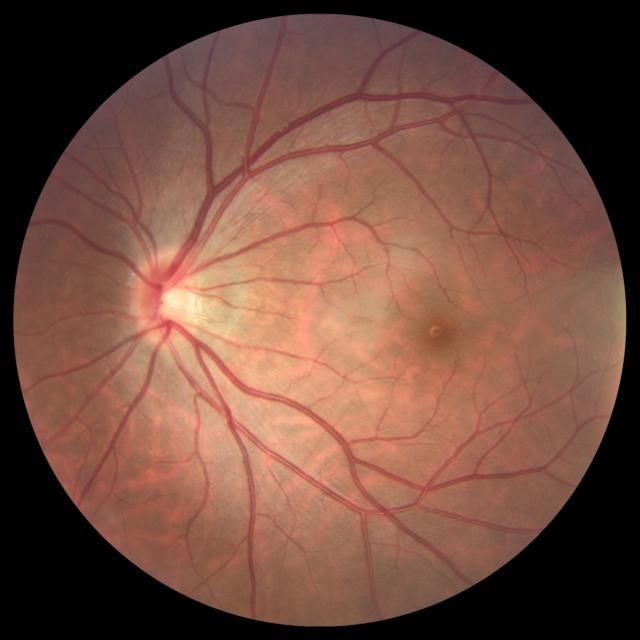OC: (152, 282, 188, 320)
OD: (134, 255, 196, 343)
